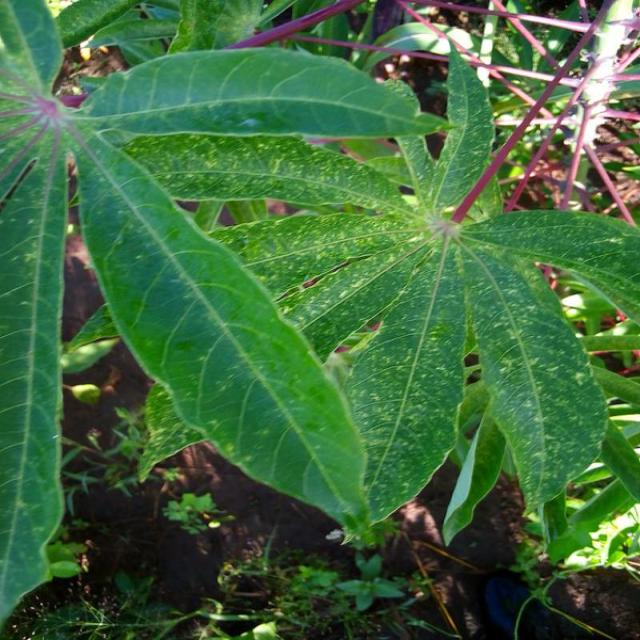cassava leaf: (70, 36, 638, 550)
